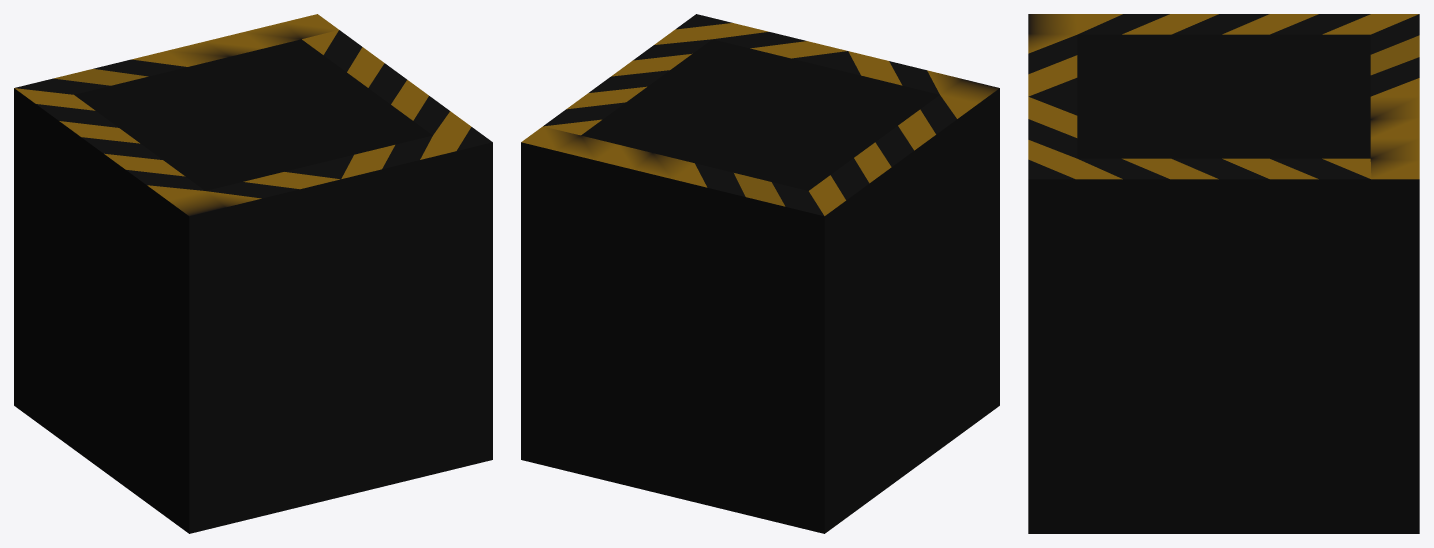
The model's file is Floor_NoSided.fbx.
3 renders of one model, left to right at view 1: azimuth 30°, elevation 25°; view 2: azimuth 150°, elevation 25°; view 3: azimuth 270°, elevation 25°, orthographic. The views are drawn at different scales.
Parts seen in each view (by area): view 1: FactoryFloorBlock.005; view 2: FactoryFloorBlock.005; view 3: FactoryFloorBlock.005.
Boxes of the visible parts, box(x1,y1,x2,y2) form: FactoryFloorBlock.005: box(14, 14, 492, 533); FactoryFloorBlock.005: box(521, 14, 999, 533); FactoryFloorBlock.005: box(1028, 14, 1419, 533).
Size of the model in its own units: 100 by 100 by 100.
